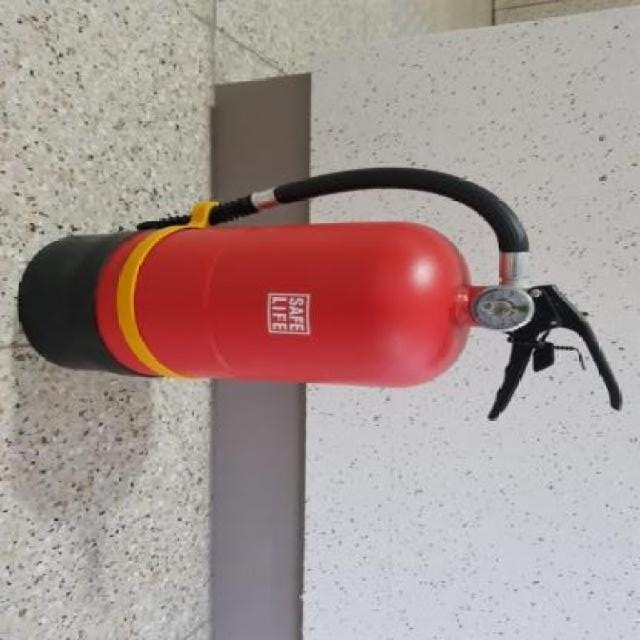fire extinguisher: (19, 166, 623, 420)
